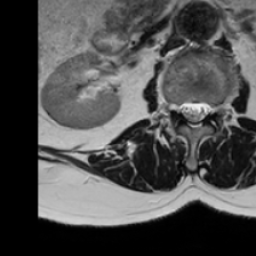CCS_normal: (190, 92, 200, 134)
LFS_stenosis: (210, 94, 220, 124)
LLS_normal: (200, 94, 210, 127)
RFS_stenosis: (170, 92, 180, 120)
RLS_normal: (180, 92, 190, 128)
